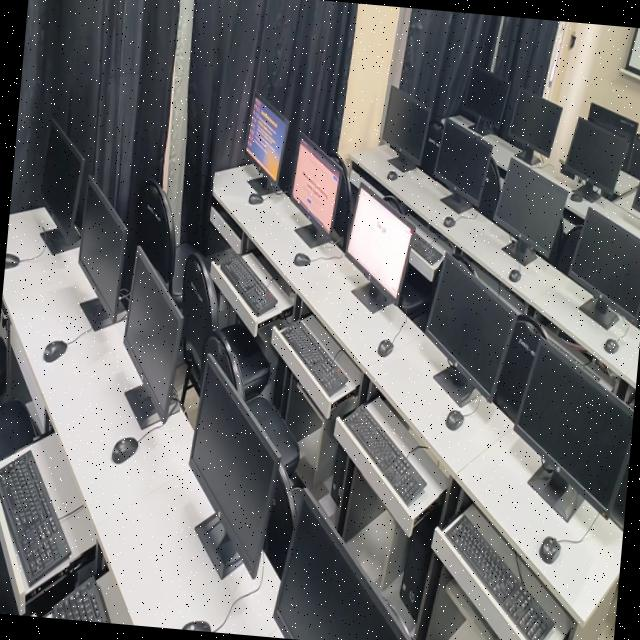Chair: (203, 329, 299, 475), (180, 253, 268, 397), (491, 314, 542, 420), (135, 178, 174, 290), (264, 470, 294, 578), (0, 399, 34, 458), (330, 152, 350, 247), (553, 221, 581, 273), (0, 544, 20, 615), (477, 157, 499, 218), (622, 132, 640, 178)
Cpu: (398, 490, 443, 619)
Keyboard: (445, 514, 551, 640), (0, 449, 69, 584), (342, 404, 425, 504), (279, 320, 346, 395), (219, 253, 275, 315), (50, 573, 109, 623), (410, 231, 441, 263)
Monitor: (513, 337, 633, 512), (272, 490, 410, 640), (188, 358, 279, 576), (424, 255, 518, 396), (122, 247, 182, 422), (567, 207, 640, 319), (492, 157, 566, 263), (77, 175, 127, 329), (345, 187, 411, 298), (39, 118, 86, 252), (432, 116, 491, 204), (560, 116, 627, 193), (290, 133, 339, 238), (499, 88, 561, 161), (380, 85, 429, 164), (456, 63, 509, 132), (245, 95, 287, 181), (586, 101, 636, 140), (631, 174, 640, 211)
Mouse: (110, 436, 137, 463), (538, 535, 559, 562), (42, 339, 66, 360), (180, 619, 211, 632), (444, 409, 462, 428), (377, 338, 392, 355), (3, 252, 18, 267), (292, 251, 309, 264), (603, 337, 617, 352), (247, 191, 262, 203), (507, 268, 519, 280), (442, 215, 454, 226), (569, 190, 581, 201), (386, 169, 396, 179)
